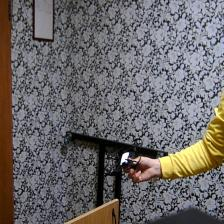drone: (102, 136, 146, 172)
